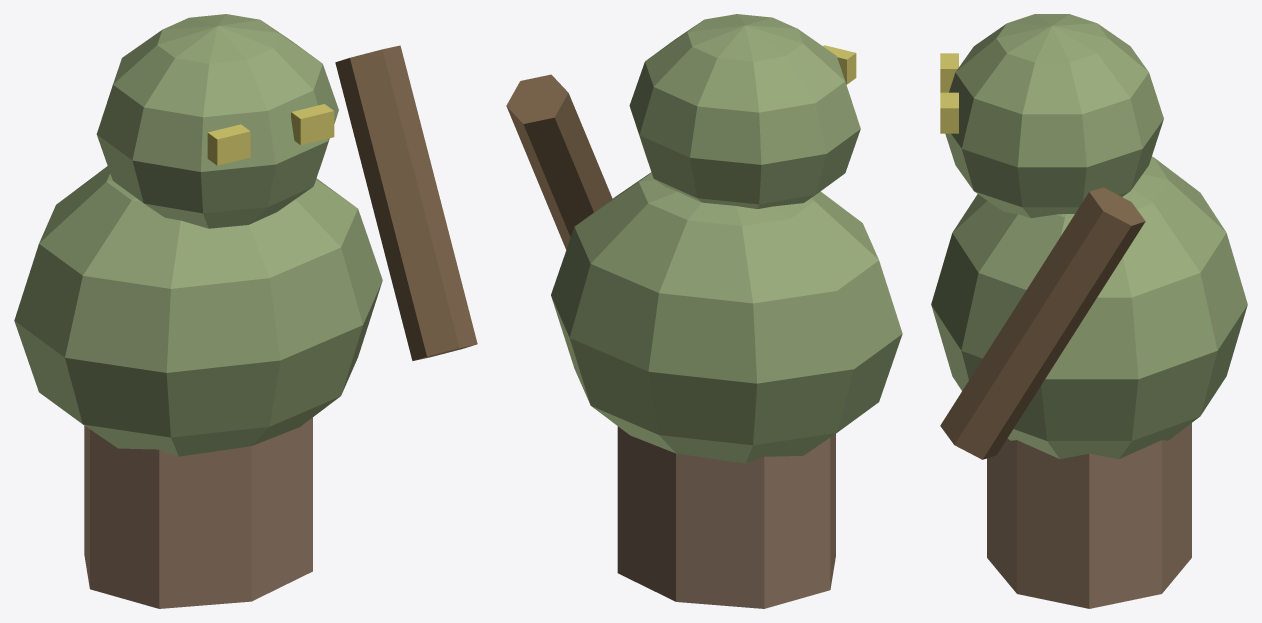
File: grunt.glb
3 renders of one model, left to right at view 1: azimuth 30°, elevation 25°; view 2: azimuth 150°, elevation 25°; view 3: azimuth 270°, elevation 25°, orthographic. The views are drawn at different scales.
Parts seen in each view (by area): view 1: BodyMesh; view 2: BodyMesh; view 3: BodyMesh.
Part boxes in pixels (x1,y1,x2,y2): BodyMesh: (14,14,477,608); BodyMesh: (506,14,902,608); BodyMesh: (931,14,1247,608).
Size of the model in its own units: 0.4405 by 0.63 by 0.34.
